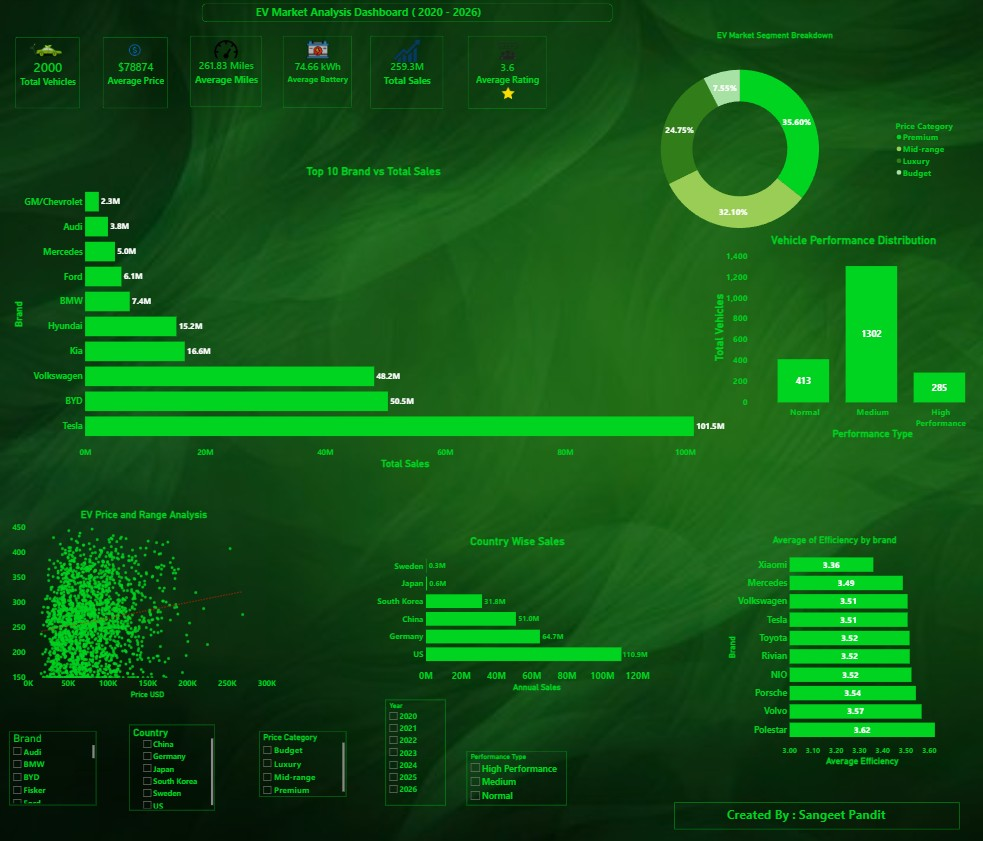

What the dashboard file says about the page in this screenshot:
{"tool":"powerbi","page":{"name":"Page 1","canvas":[3500,3000],"ordinal":0},"visuals":[{"type":"image","box":[0,0,3500.3,3000.9],"z":0},{"type":"cardVisual","fields":{"Data":["CountNonNull(EV Market 2026 Dataset.brand)"]},"box":[42,128,260,284],"z":1000},{"type":"cardVisual","fields":{"Data":["Avg(EV Market 2026 Dataset.Price USD)"]},"box":[350,128,262,284],"z":2000},{"type":"cardVisual","fields":{"Data":["Avg(EV Market 2026 Dataset.range_miles)"]},"box":[658,124,284,284],"z":3000},{"type":"cardVisual","fields":{"Data":["Avg(EV Market 2026 Dataset.Battery Capacity (kwh))"]},"box":[982,122,276,286],"z":4000},{"type":"cardVisual","fields":{"Data":["Sum(EV Market 2026 Dataset.annual_sales_units)"]},"box":[1288,122,290,290],"z":5000},{"type":"cardVisual","fields":{"Data":["Avg(EV Market 2026 Dataset.customer_rating)"]},"box":[1628,122,310,290],"z":6000},{"type":"clusteredBarChart","title":"Country Wise Sales ","fields":{"Y":["Sum(EV Market 2026 Dataset.annual_sales_units)"],"Category":["EV Market 2026 Dataset.country_of_origin"]},"box":[1325,1890,995,555],"z":7000},{"type":"columnChart","title":"Vehicle Performance Distribution","fields":{"Category":["EV Market 2026 Dataset.Performance Type"],"Y":["CountNonNull(EV Market 2026 Dataset.brand)"]},"box":[2497.1,832.4,1003.2,727.2],"z":8000},{"type":"scatterChart","title":"EV Price and Range Analysis","fields":{"X":["EV Market 2026 Dataset.Price USD"],"Y":["EV Market 2026 Dataset.range_miles"]},"box":[45,1795,935,670],"z":9000},{"type":"clusteredBarChart","fields":{"Y":["Avg(EV Market 2026 Dataset.Efficiency)"],"Category":["EV Market 2026 Dataset.brand"]},"box":[2550,1890,765,815],"z":10000},{"type":"donutChart","title":"EV Market Segment Breakdown","fields":{"Category":["EV Market 2026 Dataset.Price Category "],"Y":["CountNonNull(EV Market 2026 Dataset.brand)"]},"box":[2050,120,1345,800],"z":11000},{"type":"clusteredBarChart","title":"Top 10 Brand vs Total Sales ","fields":{"Category":["EV Market 2026 Dataset.brand"],"Y":["Sum(EV Market 2026 Dataset.annual_sales_units)"]},"box":[43.8,591.4,2545.3,1073.3],"z":12000},{"type":"shape","box":[2370,2825,1000,95],"z":13000},{"type":"textbox","box":[2550,2835,640,75],"z":14000},{"type":"shape","box":[715,25,1440,65],"z":15000},{"type":"textbox","box":[900,25,845,130],"z":16000},{"type":"slicer","fields":{"Values":["EV Market 2026 Dataset.brand"]},"box":[40,2575,305,260],"z":17000},{"type":"slicer","fields":{"Values":["EV Market 2026 Dataset.country_of_origin","EV Market 2026 Dataset.country_of_origin"]},"box":[460,2555,300,300],"z":18000},{"type":"slicer","fields":{"Values":["EV Market 2026 Dataset.Price Category "]},"box":[915,2575,305,230],"z":19000},{"type":"slicer","fields":{"Values":["EV Market 2026 Dataset.year"]},"box":[1360,2465,210,370],"z":20000},{"type":"slicer","fields":{"Values":["EV Market 2026 Dataset.Performance Type"]},"box":[1645,2645,350,190],"z":21000},{"type":"image","box":[100,107.7,131.5,162.3],"z":22000},{"type":"image","box":[444,162,74,55],"z":23000},{"type":"image","box":[741.2,141.2,117.5,93.8],"z":24000},{"type":"image","box":[1068,142,103,94],"z":25000},{"type":"image","box":[1375,142,115,104],"z":26000},{"type":"image","box":[1745,149,90,90],"z":27000},{"type":"image","box":[1767.5,315,45,51.2],"z":28000}]}

Visuals, with their boxes in screenshot pixels (x1, y1, x2, y2), scaled from the page's 3500x3000 canvas onto the 983x841 screenshot:
image: [0, 0, 982, 840]
cardVisual - CountNonNull(EV Market 2026 Dataset.brand): [12, 36, 85, 115]
cardVisual - Avg(EV Market 2026 Dataset.Price USD): [98, 36, 172, 115]
cardVisual - Avg(EV Market 2026 Dataset.range_miles): [185, 35, 265, 114]
cardVisual - Avg(EV Market 2026 Dataset.Battery Capacity (kwh)): [276, 34, 353, 114]
cardVisual - Sum(EV Market 2026 Dataset.annual_sales_units): [362, 34, 443, 115]
cardVisual - Avg(EV Market 2026 Dataset.customer_rating): [457, 34, 544, 115]
"Country Wise Sales " clusteredBarChart: [372, 530, 652, 685]
"Vehicle Performance Distribution" columnChart: [701, 233, 982, 437]
"EV Price and Range Analysis" scatterChart: [13, 503, 275, 691]
clusteredBarChart - Avg(EV Market 2026 Dataset.Efficiency) x EV Market 2026 Dataset.brand: [716, 530, 931, 758]
"EV Market Segment Breakdown" donutChart: [576, 34, 954, 258]
"Top 10 Brand vs Total Sales " clusteredBarChart: [12, 166, 727, 467]
shape: [666, 792, 946, 819]
textbox: [716, 795, 896, 816]
shape: [201, 7, 605, 25]
textbox: [253, 7, 490, 43]
slicer - EV Market 2026 Dataset.brand: [11, 722, 97, 795]
slicer - EV Market 2026 Dataset.country_of_origin x EV Market 2026 Dataset.country_of_origin: [129, 716, 213, 800]
slicer - EV Market 2026 Dataset.Price Category : [257, 722, 343, 786]
slicer - EV Market 2026 Dataset.year: [382, 691, 441, 795]
slicer - EV Market 2026 Dataset.Performance Type: [462, 741, 560, 795]
image: [28, 30, 65, 76]
image: [125, 45, 145, 61]
image: [208, 40, 241, 66]
image: [300, 40, 329, 66]
image: [386, 40, 418, 69]
image: [490, 42, 515, 67]
image: [496, 88, 509, 103]
